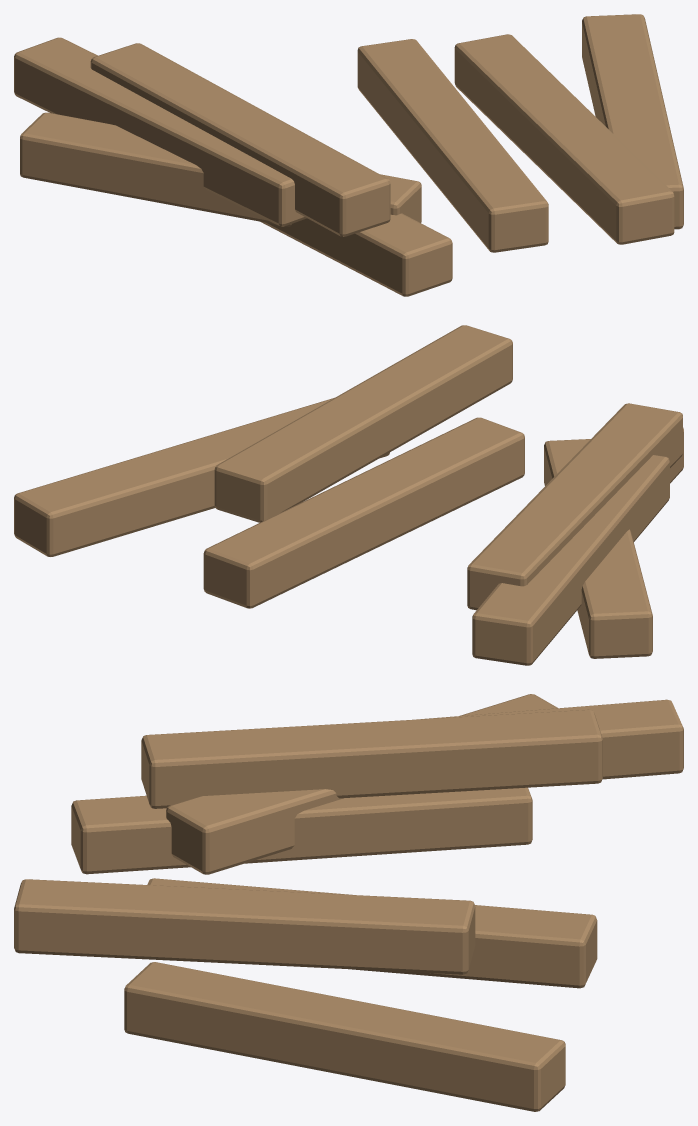
The model's file is wood.glb.
3 views of the same model, one above another, from view 1: azimuth 30°, elevation 25°; view 2: azimuth 150°, elevation 25°; view 3: azimuth 270°, elevation 25° (orthographic). The views are drawn at different scales.
Parts seen in each view (by area): view 1: Allumette.005, Allumette.002, Allumette, Allumette.006, Allumette.004, Allumette.001, Allumette.003; view 2: Allumette.002, Allumette.005, Allumette.001, Allumette, Allumette.006, Allumette.004; view 3: Allumette.005, Allumette.001, Allumette, Allumette.003, Allumette.002, Allumette.004, Allumette.006.
Boxes of the visible parts, x1,y1,x2,y2 form: Allumette.005: (454, 34, 674, 244); Allumette.002: (357, 39, 548, 252); Allumette: (90, 43, 390, 236); Allumette.006: (14, 37, 306, 226); Allumette.004: (20, 112, 421, 226); Allumette.001: (582, 14, 683, 229); Allumette.003: (260, 213, 452, 296); Allumette.002: (203, 417, 524, 608); Allumette.005: (214, 325, 512, 522); Allumette.001: (14, 397, 389, 556); Allumette: (467, 403, 682, 610); Allumette.006: (472, 455, 669, 665); Allumette.004: (544, 439, 652, 658); Allumette.005: (14, 879, 475, 974); Allumette.001: (124, 962, 565, 1111); Allumette: (141, 709, 602, 808); Allumette.003: (71, 787, 532, 874); Allumette.002: (147, 878, 597, 988); Allumette.004: (166, 694, 557, 874); Allumette.006: (416, 699, 683, 779).
Size of the model in its own units: 1.48 by 0.25 by 1.24.
